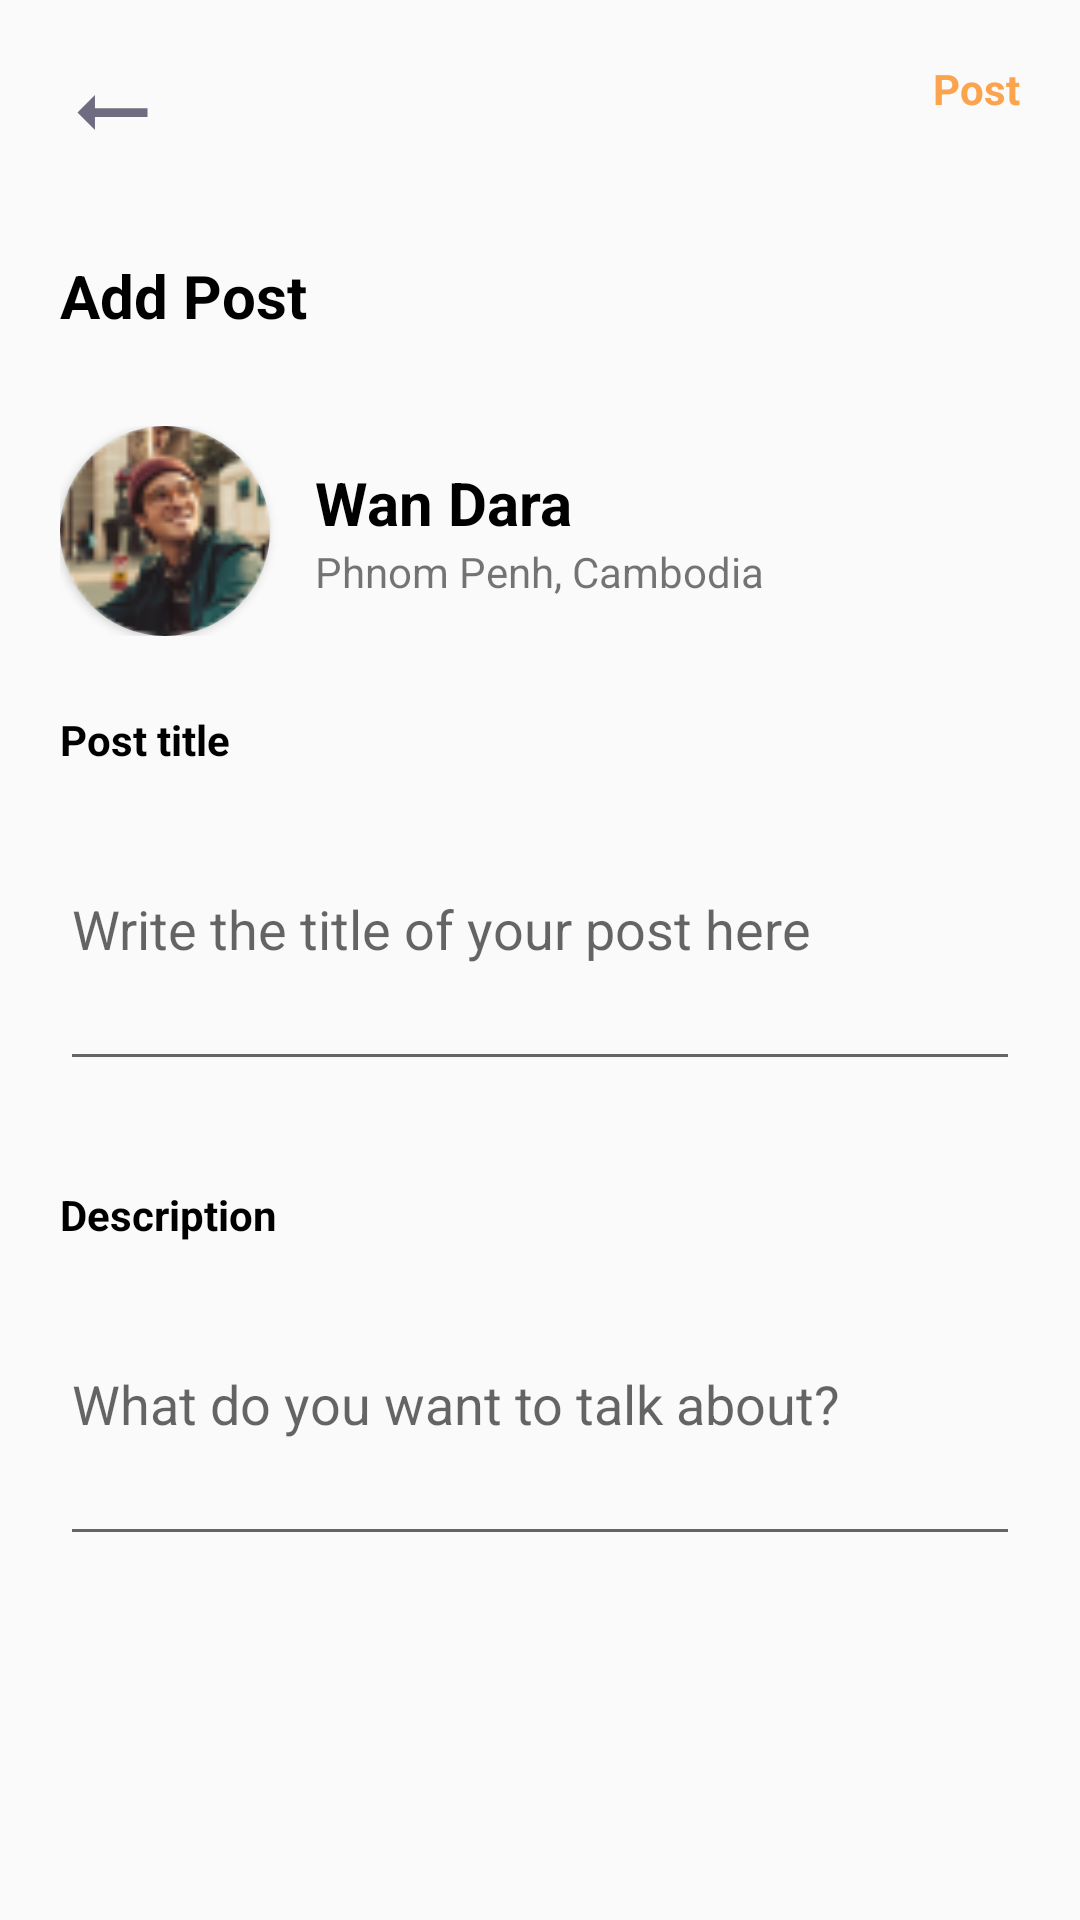

Screen size 1080×1920. Icon name, then its center in pixels as (x=x, y=y):
profile demo: (x=165, y=531)
